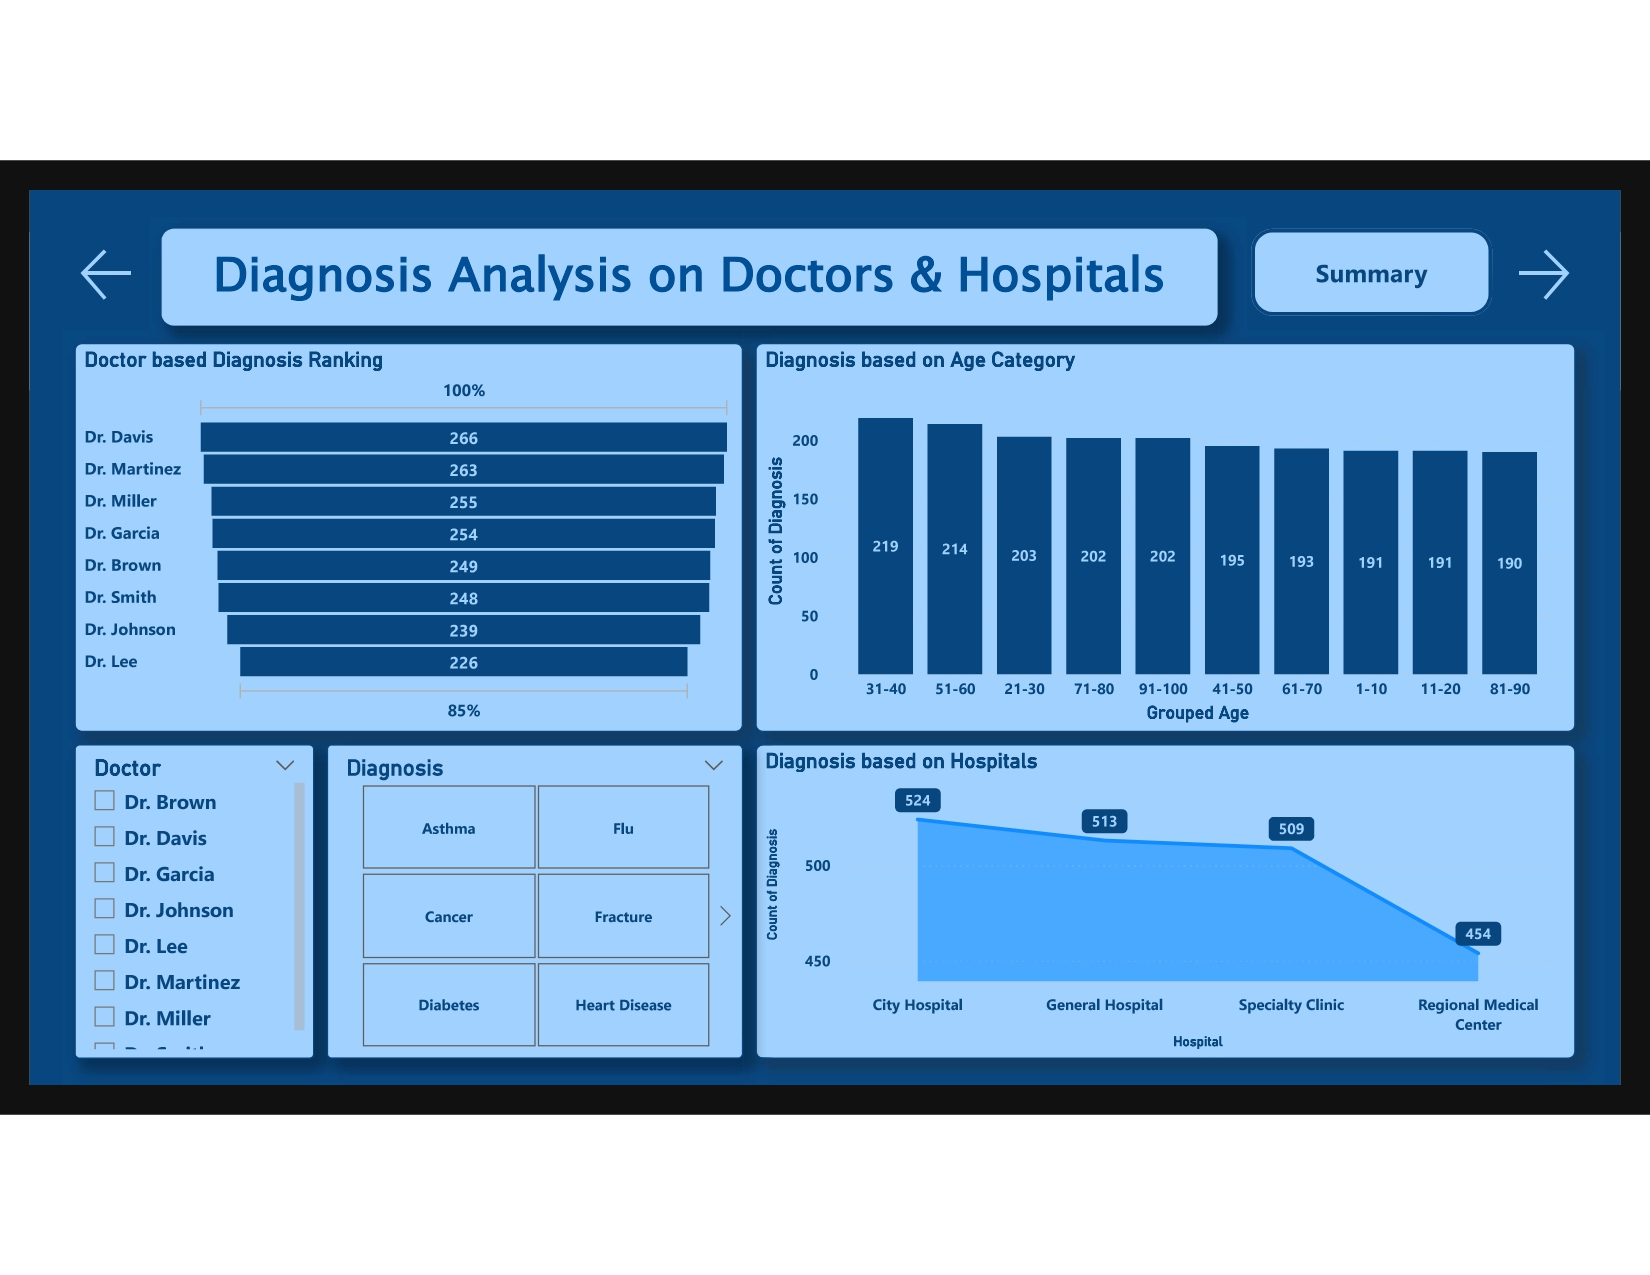

The dashboard page shown, as its layout file describes it:
{"tool":"powerbi","page":{"name":"Diagnosis Analysis","canvas":[1280,720],"ordinal":3},"visuals":[{"type":"textbox","box":[105.5,31.2,850.2,77.3],"z":0},{"type":"funnel","title":"Doctor based Diagnosis Ranking","fields":{"Category":["Health_Care_Project (real time).Doctor"],"Y":["CountNonNull(Health_Care_Project (real time).Diagnosis)"]},"box":[35.7,123.4,538.1,312.1],"z":1000},{"type":"clusteredColumnChart","title":"Diagnosis based on Age Category","fields":{"Category":["Health_Care_Project (real time).Grouped Age"],"Y":["CountNonNull(Health_Care_Project (real time).Diagnosis)"]},"box":[584.2,123.4,660,312.1],"z":2000},{"type":"areaChart","title":"Diagnosis based on Hospitals","fields":{"Category":["Health_Care_Project (real time).Hospital"],"Y":["CountNonNull(Health_Care_Project (real time).Diagnosis)"]},"box":[584.2,445.9,660,252.7],"z":3000},{"type":"slicer","fields":{"Values":["Health_Care_Project (real time).Doctor"]},"box":[35.7,445.9,193.2,252.7],"z":4000},{"type":"slicer","fields":{"Values":["Health_Care_Project (real time).Diagnosis"]},"box":[239.3,445.9,334.4,252.7],"z":5000},{"type":"actionButton","box":[35.7,41.6,55,52],"z":5001},{"type":"actionButton","box":[1192.1,41.6,52,52],"z":5002},{"type":"actionButton","box":[982.5,31.2,194.7,69.9],"z":5003}]}

Visuals, with their boxes on the page's 1280x720 design canvas (x1, y1, x2, y2). These are canvas units, not pixel positions in the 1650x1275 screenshot, which may show the page scaled, cropped or inside an application window:
textbox: left=106, top=31, right=956, bottom=108
"Doctor based Diagnosis Ranking" funnel: left=36, top=123, right=574, bottom=436
"Diagnosis based on Age Category" clusteredColumnChart: left=584, top=123, right=1244, bottom=436
"Diagnosis based on Hospitals" areaChart: left=584, top=446, right=1244, bottom=699
slicer - Health_Care_Project (real time).Doctor: left=36, top=446, right=229, bottom=699
slicer - Health_Care_Project (real time).Diagnosis: left=239, top=446, right=574, bottom=699
actionButton: left=36, top=42, right=91, bottom=94
actionButton: left=1192, top=42, right=1244, bottom=94
actionButton: left=982, top=31, right=1177, bottom=101
